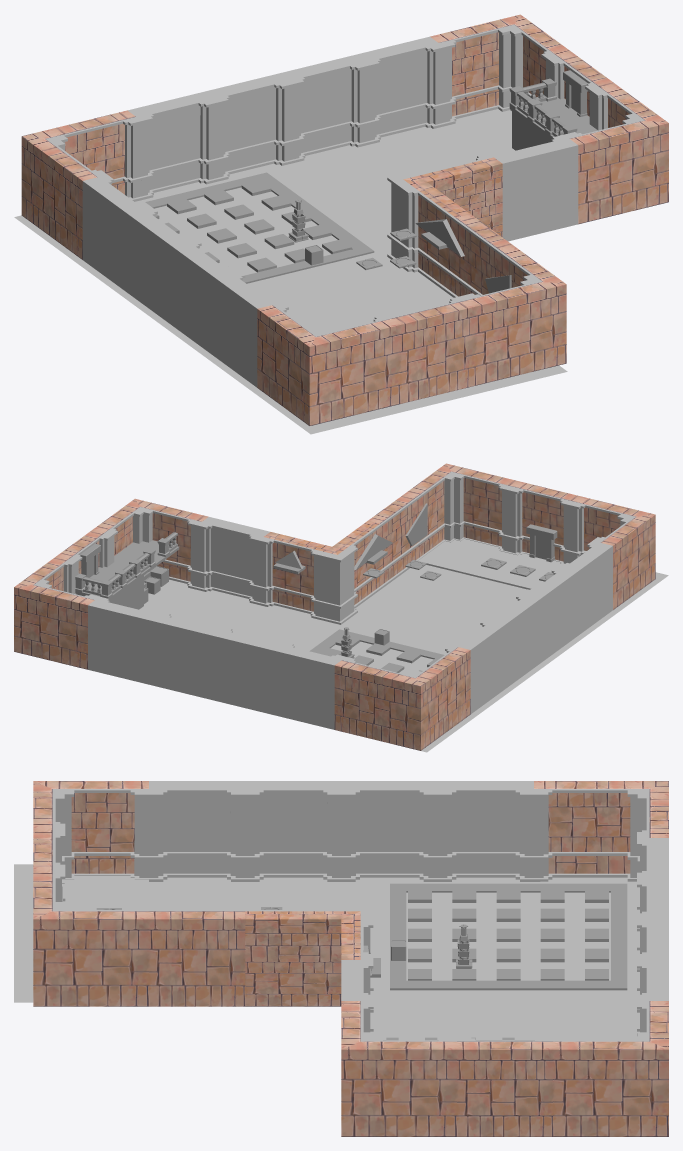
The model's file is salle_4_passé_derniere_version.fbx.
3 renders of one model, top to bottom at view 1: azimuth 30°, elevation 25°; view 2: azimuth 150°, elevation 25°; view 3: azimuth 270°, elevation 25°, orthographic. The views are drawn at different scales.
Parts seen in each view (by area): view 1: sol5, polySurface130 (×3), polySurface135 (×3), mur_angle_clean_passé27, mur_clean_passé17, mur_cleane15, mur_cleane17, mur_cleane14, mur_cleane16, mur_cleane13, mur_porte_clean5, polySurface120 (+13 smaller); view 2: sol5, polySurface130 (×3), mur_clean_passé17, polySurface135 (×3), mur_angle_clean_passé27, polySurface96, mur_cleane15, mur_cleane17, mur_cleane16, mur_cleane13, mur_cleane14, mur_porte_clean5 (+16 smaller); view 3: sol5, polySurface135 (×3), polySurface130 (×3), mur_angle_clean_passé27, mur_clean_passé17, polySurface120, mur_clean_passé14, mur_cleane9, mur_cleane10, mur_cleane11, mur_cleane12, mur_clean_passé16 (+9 smaller).
Boxes of the visible parts, x1=… form: sol5: x1=14, y1=109, x2=567, y2=434; polySurface130 (×3): x1=309, y1=14, x2=668, y2=425; polySurface135 (×3): x1=257, y1=14, x2=668, y2=425; mur_angle_clean_passé27: x1=462, y1=246, x2=566, y2=385; mur_clean_passé17: x1=387, y1=153, x2=502, y2=296; mur_cleane15: x1=279, y1=55, x2=368, y2=163; mur_cleane17: x1=488, y1=134, x2=578, y2=241; mur_cleane14: x1=354, y1=36, x2=444, y2=144; mur_cleane16: x1=203, y1=73, x2=292, y2=181; mur_cleane13: x1=128, y1=92, x2=217, y2=199; mur_porte_clean5: x1=386, y1=296, x2=475, y2=403; polySurface120: x1=21, y1=136, x2=107, y2=259; sol5: x1=139, y1=565, x2=668, y2=752; polySurface130 (×3): x1=14, y1=496, x2=654, y2=669; mur_clean_passé17: x1=258, y1=521, x2=381, y2=624; polySurface135 (×3): x1=14, y1=498, x2=655, y2=609; mur_angle_clean_passé27: x1=404, y1=463, x2=519, y2=560; polySurface96: x1=334, y1=657, x2=420, y2=750; mur_cleane15: x1=149, y1=611, x2=222, y2=699; mur_cleane17: x1=197, y1=517, x2=270, y2=604; mur_cleane16: x1=211, y1=627, x2=284, y2=714; mur_cleane13: x1=273, y1=642, x2=345, y2=729; mur_cleane14: x1=88, y1=597, x2=160, y2=684; mur_porte_clean5: x1=508, y1=481, x2=581, y2=563; sol5: x1=14, y1=864, x2=639, y2=1040; polySurface135 (×3): x1=34, y1=781, x2=668, y2=1136; polySurface130 (×3): x1=33, y1=781, x2=668, y2=1136; mur_angle_clean_passé27: x1=33, y1=870, x2=148, y2=1006; mur_clean_passé17: x1=245, y1=906, x2=373, y2=1022; polySurface120: x1=534, y1=781, x2=668, y2=881; mur_clean_passé14: x1=457, y1=1036, x2=553, y2=1136; mur_cleane9: x1=149, y1=781, x2=245, y2=881; mur_cleane10: x1=245, y1=781, x2=341, y2=881; mur_cleane11: x1=341, y1=781, x2=437, y2=881; mur_cleane12: x1=437, y1=781, x2=533, y2=881; mur_clean_passé16: x1=149, y1=910, x2=245, y2=1006.
Size of the model in its own units: 33.5 by 5.28 by 34.
